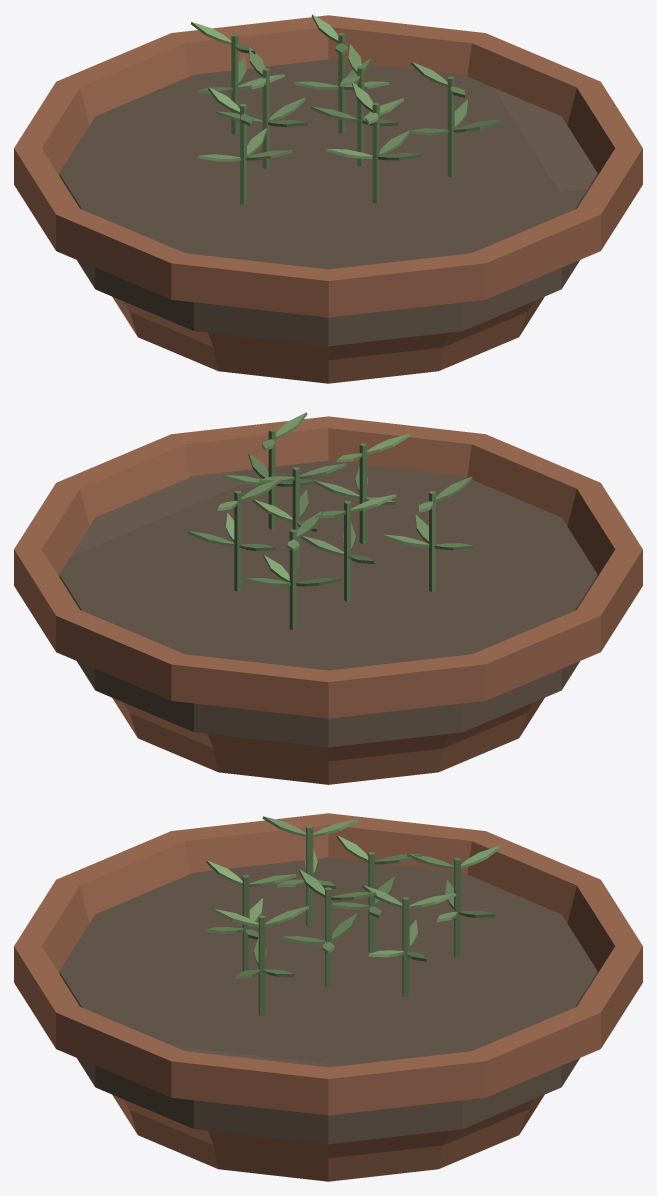
Rendered from moss-commune.glb.
3 renders of one model, top to bottom at view 1: azimuth 30°, elevation 25°; view 2: azimuth 150°, elevation 25°; view 3: azimuth 270°, elevation 25°, orthographic.
Parts seen in each view (by area): view 1: moss-commune/review-rooted-soil, moss-commune/review-terra-vessel, moss-commune/moss-stem-031, moss-commune/moss-stem-013, moss-commune/moss-stem-007, moss-commune/moss-stem-025, moss-commune/moss-stem-037, moss-commune/moss-stem-019, moss-commune/moss-stem-001; view 2: moss-commune/review-rooted-soil, moss-commune/review-terra-vessel, moss-commune/moss-stem-019, moss-commune/moss-stem-013, moss-commune/moss-stem-037, moss-commune/moss-stem-007, moss-commune/moss-stem-025, moss-commune/moss-stem-031, moss-commune/moss-stem-001; view 3: moss-commune/review-rooted-soil, moss-commune/review-terra-vessel, moss-commune/moss-stem-019, moss-commune/moss-stem-031, moss-commune/moss-stem-025, moss-commune/moss-stem-037, moss-commune/moss-stem-013, moss-commune/moss-stem-007, moss-commune/moss-stem-001.
Boxes of the visible parts, x1,y1,x2,y2 form: moss-commune/review-rooted-soil: (59, 59, 597, 346); moss-commune/review-terra-vessel: (14, 15, 642, 383); moss-commune/moss-stem-031: (447, 76, 454, 177); moss-commune/moss-stem-013: (372, 102, 379, 203); moss-commune/moss-stem-007: (262, 68, 269, 168); moss-commune/moss-stem-025: (240, 103, 246, 204); moss-commune/moss-stem-037: (231, 33, 238, 134); moss-commune/moss-stem-019: (338, 32, 345, 133); moss-commune/moss-stem-001: (357, 66, 364, 166); moss-commune/review-rooted-soil: (59, 460, 597, 747); moss-commune/review-terra-vessel: (14, 416, 642, 784); moss-commune/moss-stem-019: (234, 490, 241, 591); moss-commune/moss-stem-013: (359, 443, 366, 544); moss-commune/moss-stem-037: (289, 529, 296, 630); moss-commune/moss-stem-007: (344, 500, 350, 601); moss-commune/moss-stem-025: (429, 491, 435, 591); moss-commune/moss-stem-031: (268, 429, 275, 529); moss-commune/moss-stem-001: (292, 467, 299, 567); moss-commune/review-rooted-soil: (59, 857, 597, 1144); moss-commune/review-terra-vessel: (14, 813, 642, 1181); moss-commune/moss-stem-019: (402, 897, 409, 997); moss-commune/moss-stem-031: (258, 915, 265, 1015); moss-commune/moss-stem-025: (306, 825, 313, 926); moss-commune/moss-stem-037: (454, 857, 460, 958); moss-commune/moss-stem-013: (242, 874, 249, 971); moss-commune/moss-stem-007: (368, 851, 375, 952); moss-commune/moss-stem-001: (325, 887, 331, 988).
Size of the model in its own units: 0.25 by 0.0958 by 0.25.
3 materials, 3 textured.
